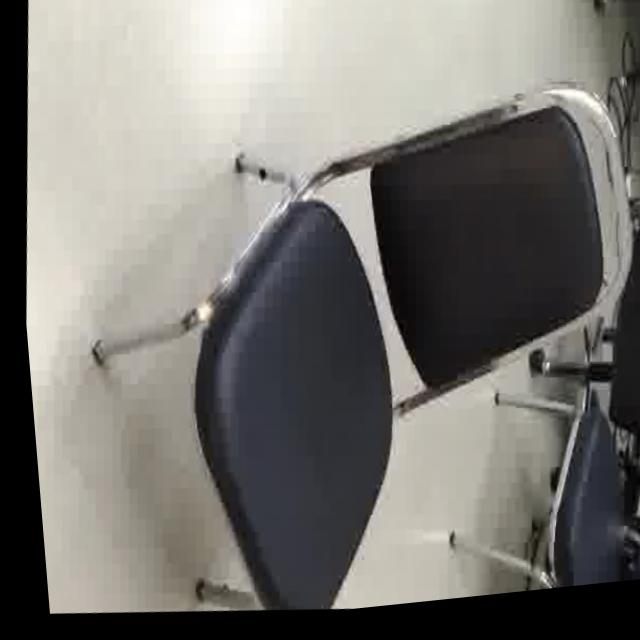chair: (24, 0, 640, 638)
